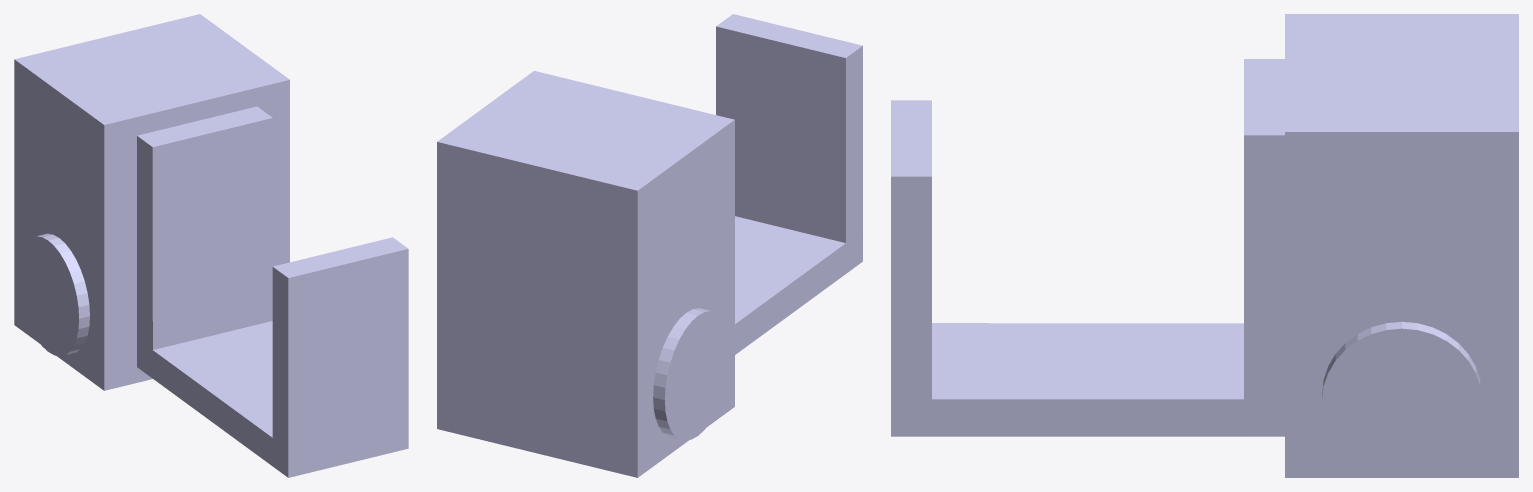
File: dbAlpha_URDF_dbAlpha_L2_link1__69__.dae
The picture shows the model from 3 angles, left to right: view 1: azimuth 30°, elevation 25°; view 2: azimuth 150°, elevation 25°; view 3: azimuth 270°, elevation 25°; orthographic projection. The views are drawn at different scales.
Parts seen in each view (by area): view 1: Node_0x7f7afcdf1ac0 (×5); view 2: Node_0x7f7afcdf1ac0 (×4); view 3: Node_0x7f7afcdf1ac0 (×5).
Part boxes in pixels (x1,y1,x2,y2): Node_0x7f7afcdf1ac0 (×5): (14,14,408,477); Node_0x7f7afcdf1ac0 (×4): (437,14,862,477); Node_0x7f7afcdf1ac0 (×5): (891,14,1518,477).
Bounding box in the file's own units: 0.038 × 0.0465 × 0.0765.
